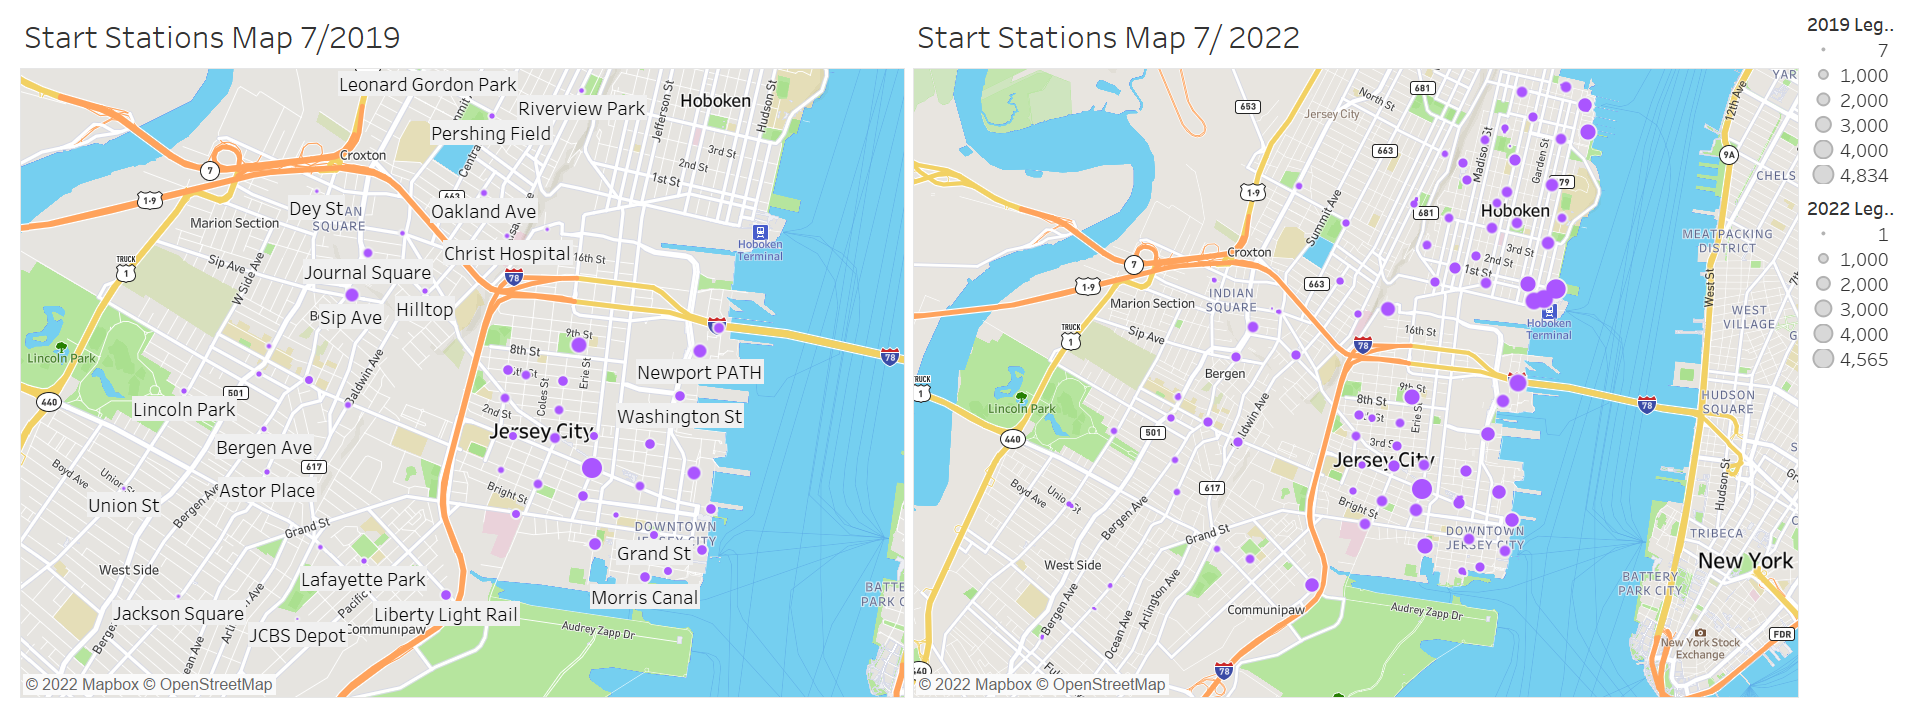

Layout of this report page (visuals, bound fields, positions):
{"tool":"tableau","page":{"name":"Start Station Map","canvas":[1000,1000],"units":"permille","ordinal":4},"visuals":[{"type":"worksheet","title":"Start Stations Map","mark":"Automatic","box":[5.1,9.8,462.7,780]},{"type":"worksheet","title":"Start Stations Map (2)","mark":"Automatic","box":[467.8,9.8,462.7,780]},{"type":"legend","title":"Start Stations Map","param":"[federated.1ikgm7z1d3z33414sa9a90tvpcaw].[usr:Calculation_1963287969288105990:qk","box":[930.4,9.8,64.5,224.9]},{"type":"legend","title":"Start Stations Map (2)","param":"[federated.1ikgm7z1d3z33414sa9a90tvpcaw].[usr:Calculation_1963287969613320208:qk","box":[930.4,234.7,64.5,224.9]},{"type":"text","box":[5.1,789.7,989.8,200.5]}]}

Visuals, with their boxes on the dashboard's canvas, which has no fixed pixel size, in thousandths of its width and height (x1, y1, x2, y2). These are canvas units, not pixel positions in the 1920x712 screenshot, which may show the page scaled, cropped or inside an application window:
"Start Stations Map" worksheet: {"x1": 5, "y1": 10, "x2": 468, "y2": 790}
"Start Stations Map (2)" worksheet: {"x1": 468, "y1": 10, "x2": 930, "y2": 790}
"Start Stations Map" legend: {"x1": 930, "y1": 10, "x2": 995, "y2": 235}
"Start Stations Map (2)" legend: {"x1": 930, "y1": 235, "x2": 995, "y2": 460}
text: {"x1": 5, "y1": 790, "x2": 995, "y2": 990}
